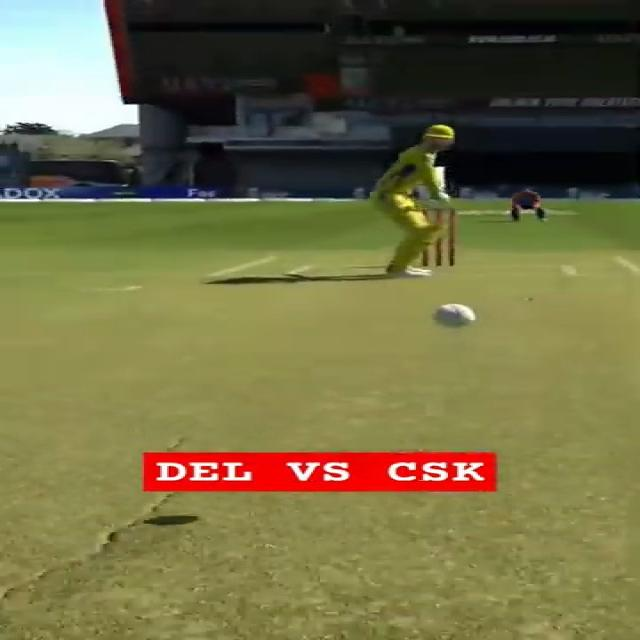ball: (432, 305, 475, 327)
